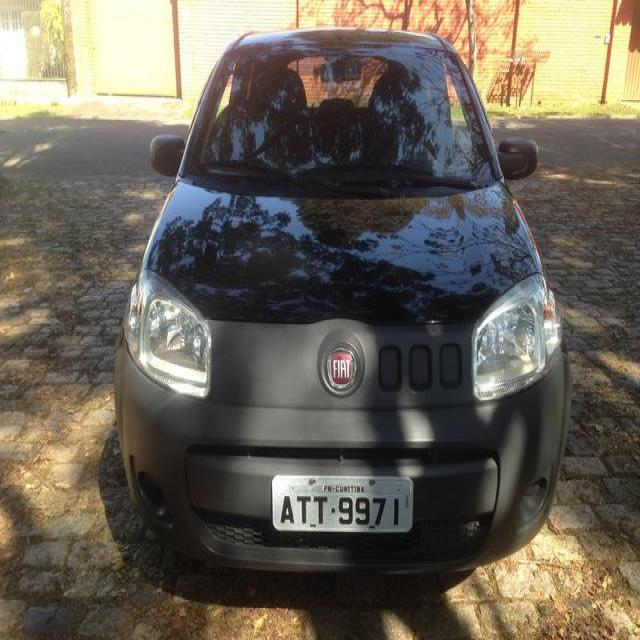Placa: (269, 468, 415, 539)
